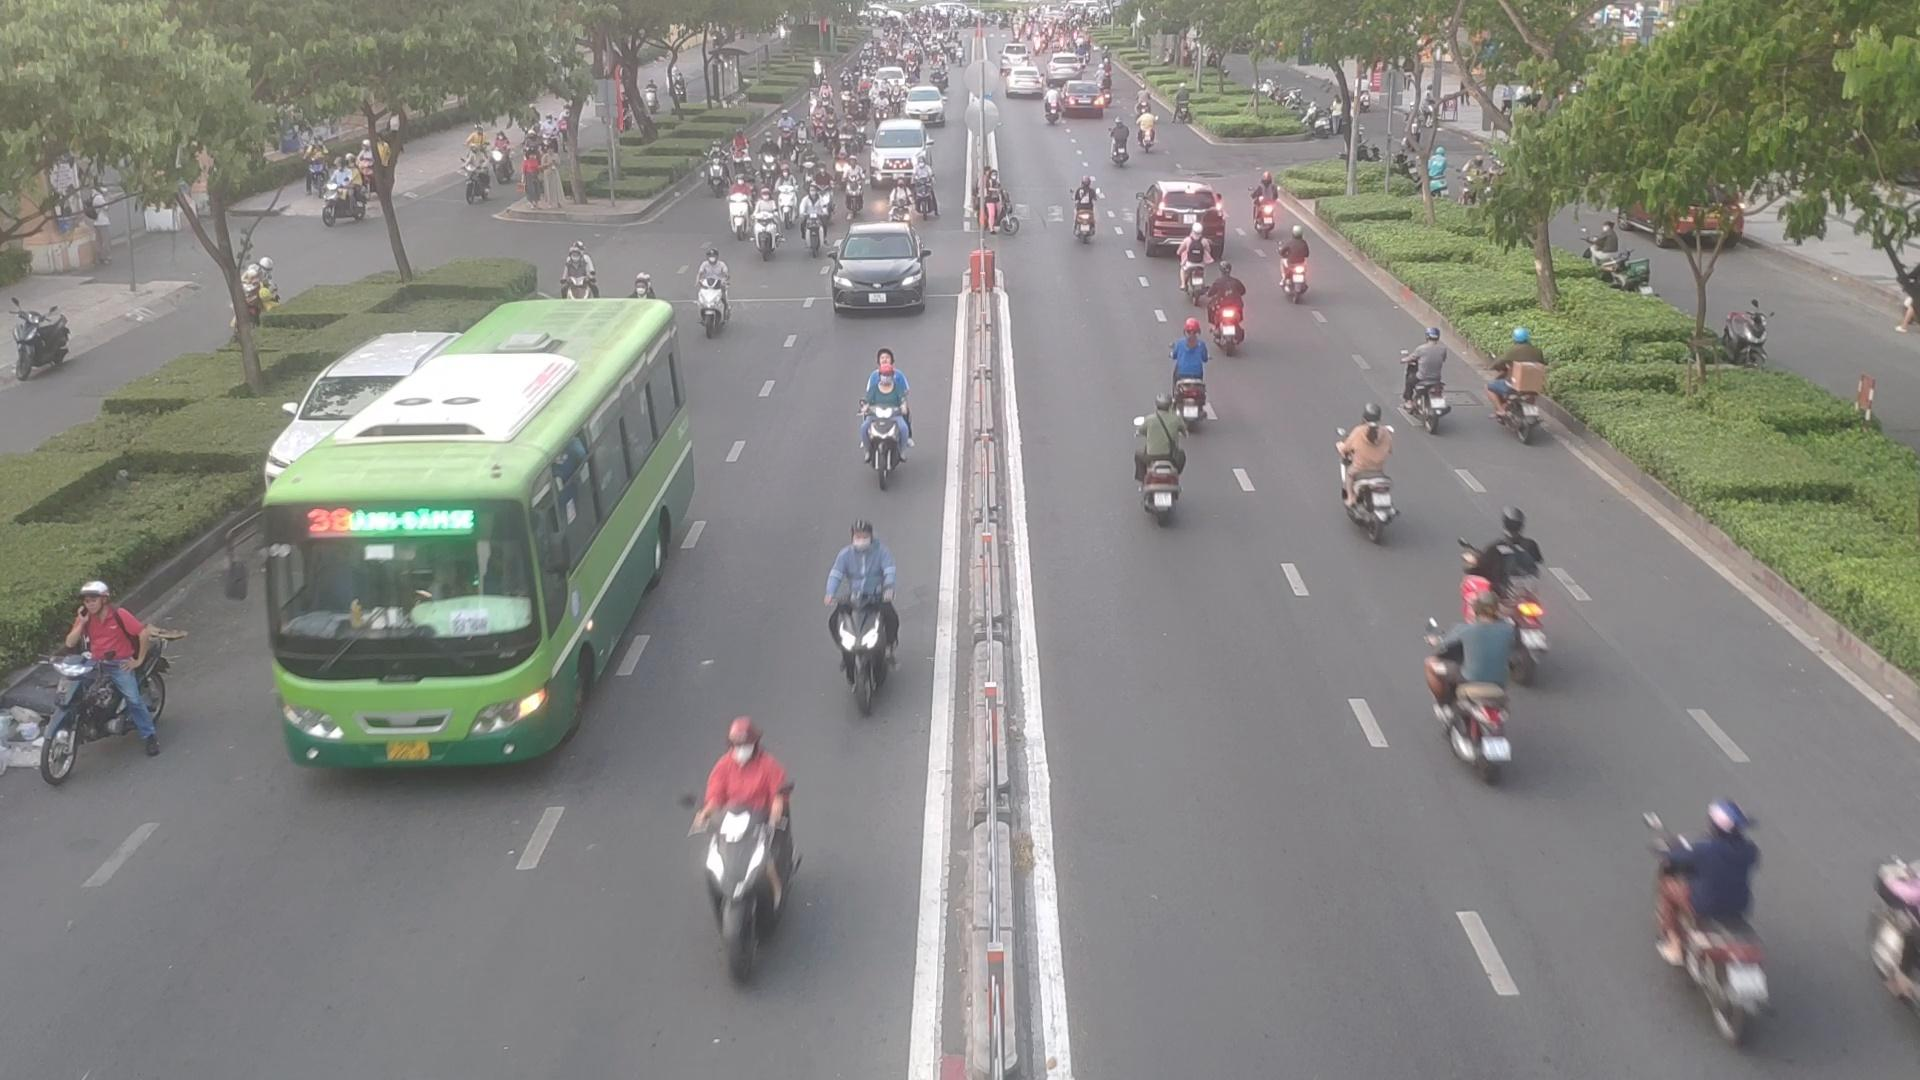bus: (270, 297, 673, 767)
car: (824, 225, 928, 315), (1133, 179, 1222, 247)
motorbike: (1647, 800, 1782, 1040), (679, 733, 803, 967), (29, 589, 171, 753), (1455, 520, 1567, 675), (1425, 611, 1528, 777), (1866, 841, 1920, 1048), (822, 530, 898, 654), (1329, 411, 1403, 538), (849, 360, 922, 484), (1124, 404, 1188, 520), (1403, 332, 1469, 431), (1170, 316, 1216, 430), (1205, 270, 1261, 357), (691, 251, 740, 335), (1275, 232, 1317, 309), (551, 243, 603, 301), (1065, 179, 1102, 248), (748, 208, 785, 262), (1180, 224, 1204, 297), (868, 149, 909, 189), (1101, 121, 1133, 166)
